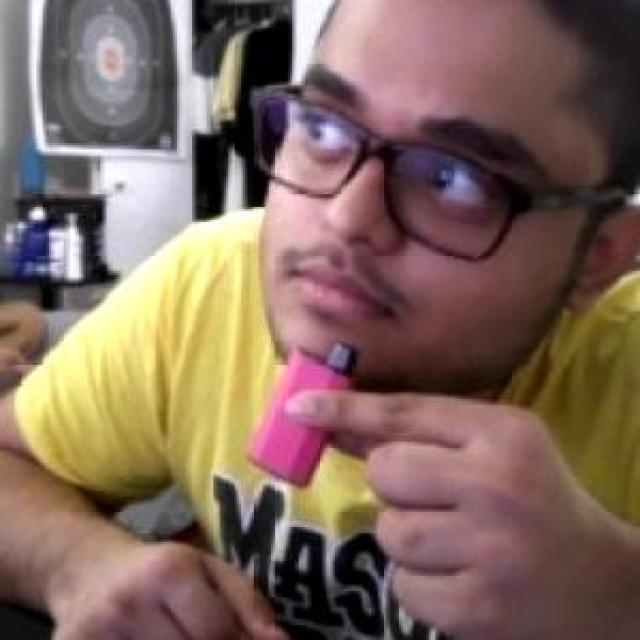Hazard: (245, 338, 358, 486)
